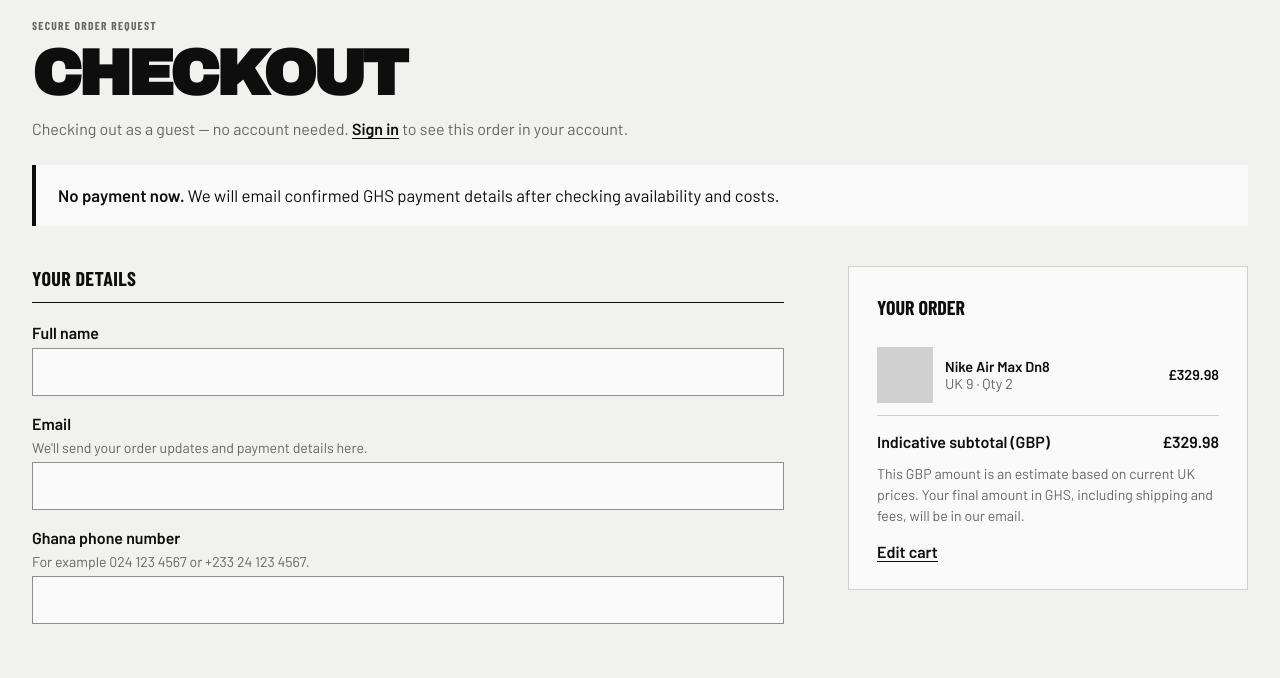
Test case: successful order sends only ids/sizes/quantities, clears the cart and shows a received-only confirmation
Type "Ama Mensah" into the field labelled "Full name". click: (408, 372)
box: [32,348,784,396]
Type "ama@example.test" into the field labelled "Email". click: (408, 486)
box: [32,462,784,510]
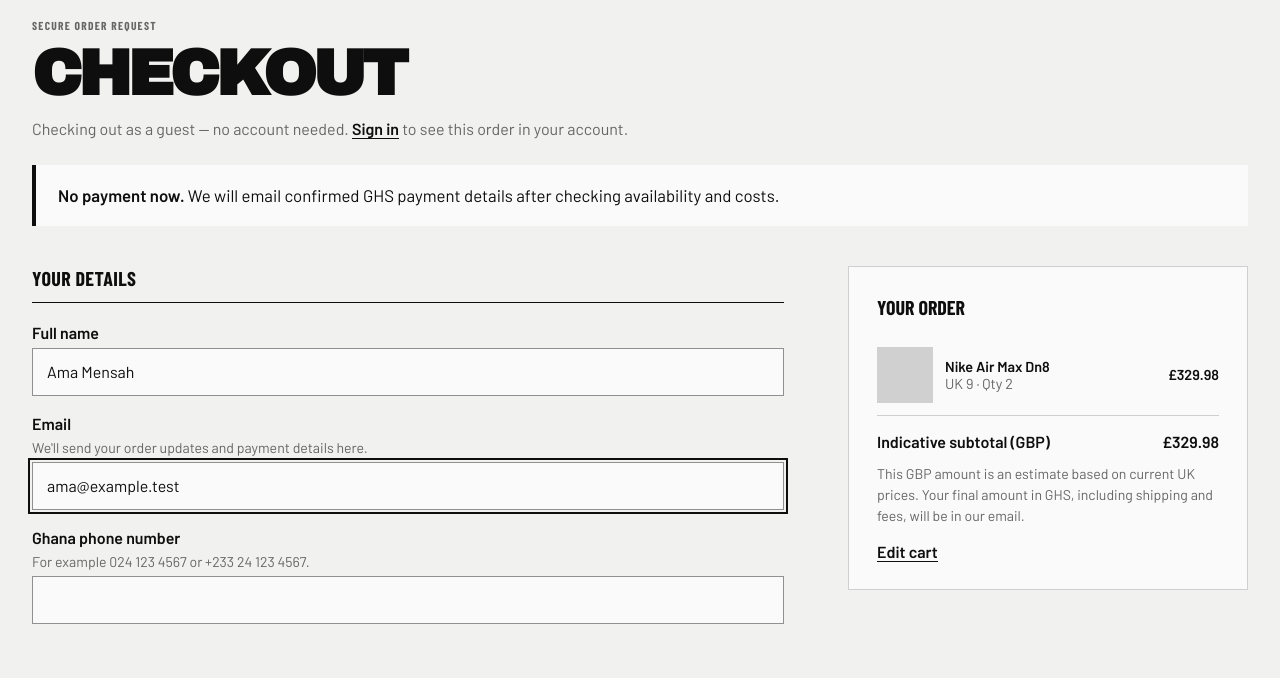
Type "024 123 4567" into the field labelled "Ghana phone number". click: (408, 600)
box: [32,576,784,624]
(page scrolled)
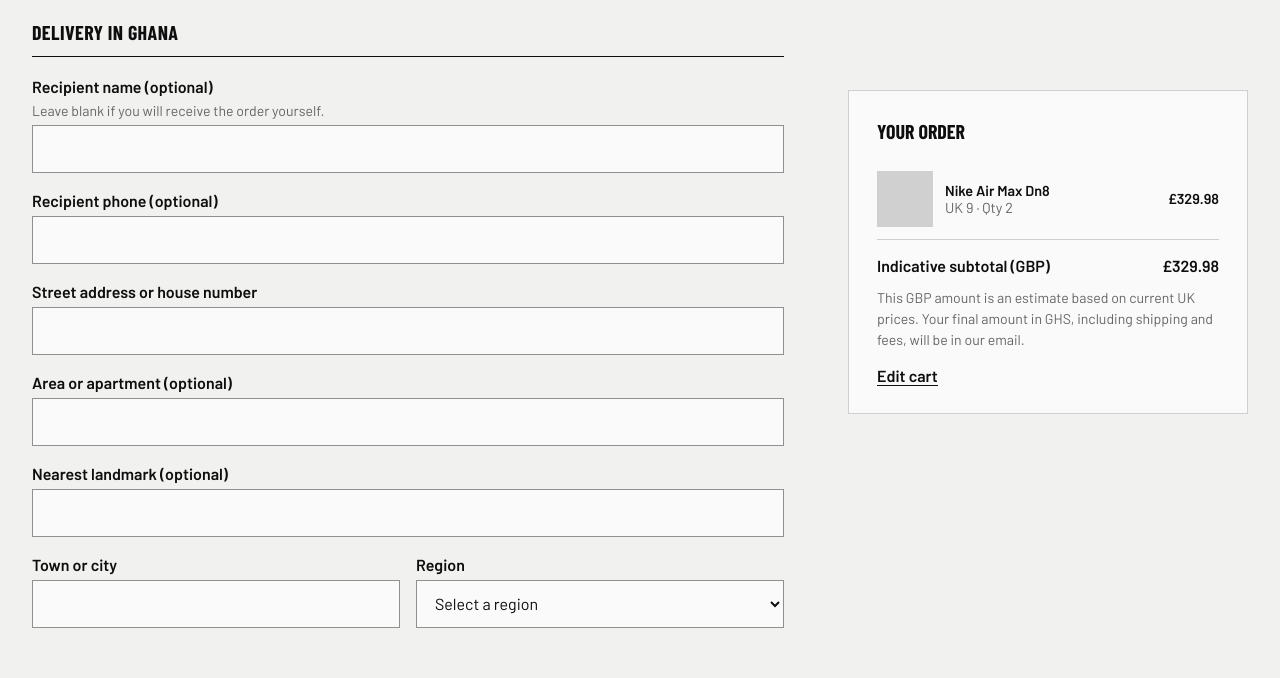
Type "12 Ring Road East" into the field labelled "Street address or house number". click: (408, 331)
box: [32,307,784,355]
Type "Accra" into the field labelled "Town or city". click: (216, 604)
box: [32,580,400,628]
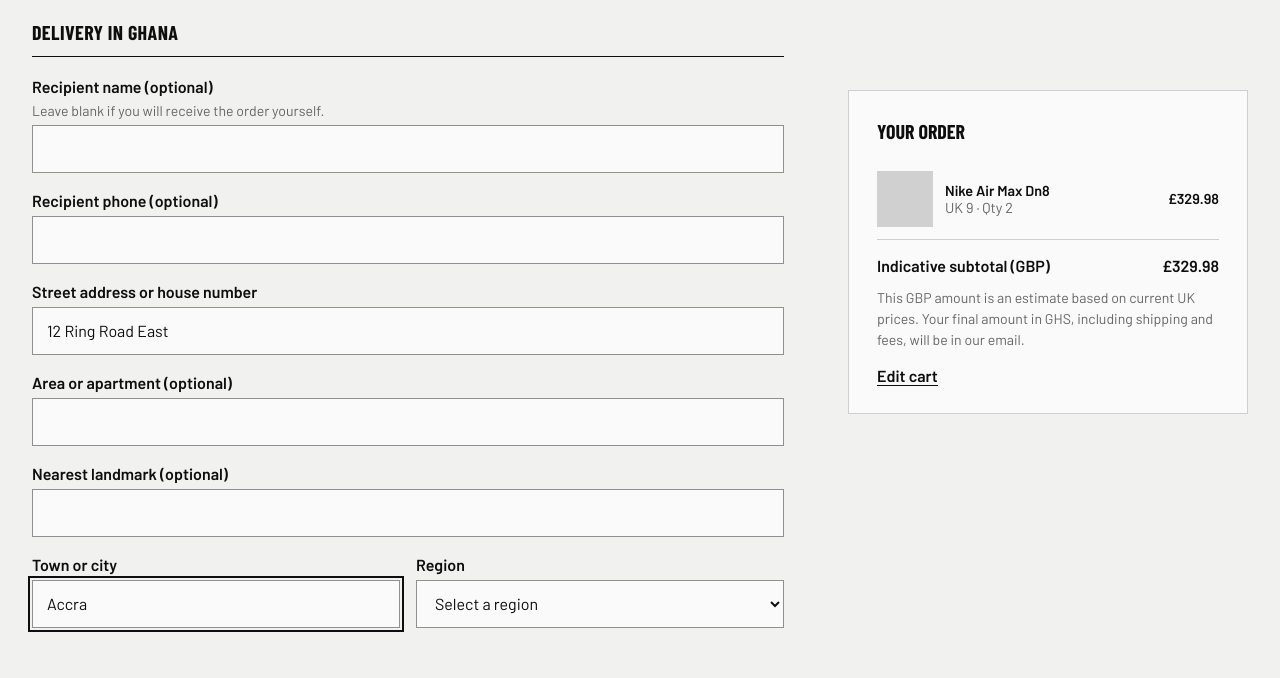
Select "Greater Accra" in the dropdown labelled "Region". click: (600, 604)
box: [416,580,784,628]
(page scrolled)
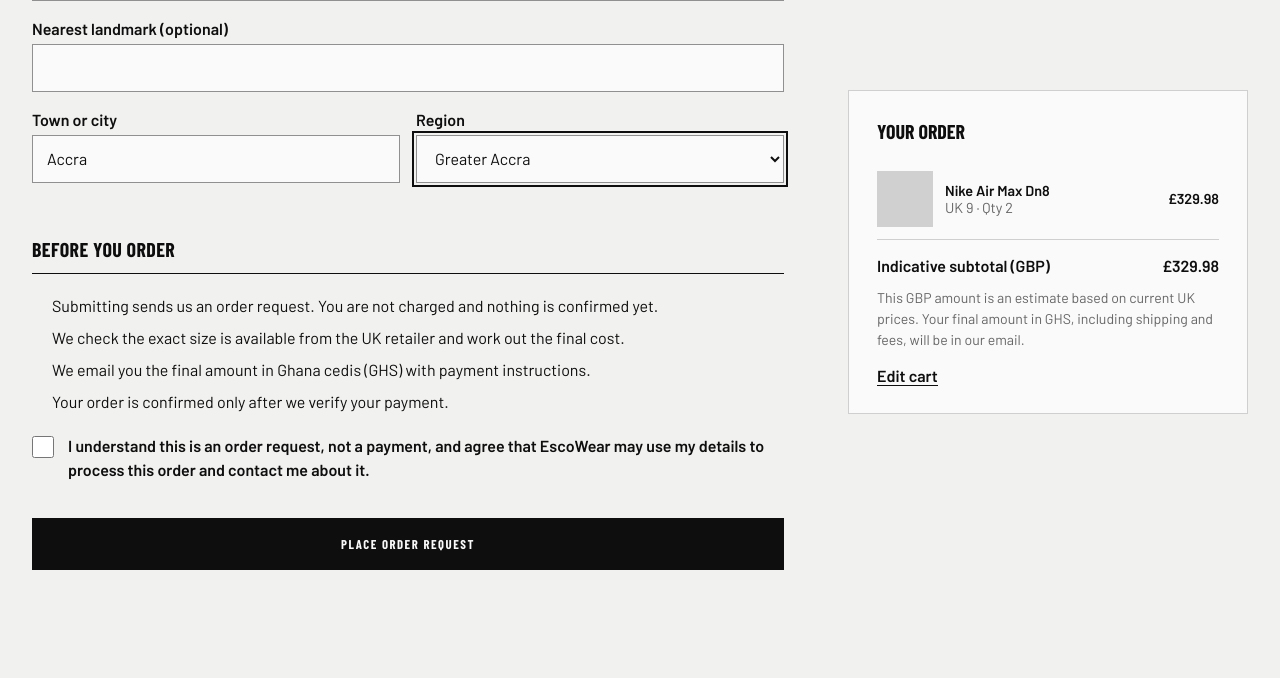
Click the checkbox labelled "I understand this is an order request". click: click(43, 447)
box: [32,436,54,458]
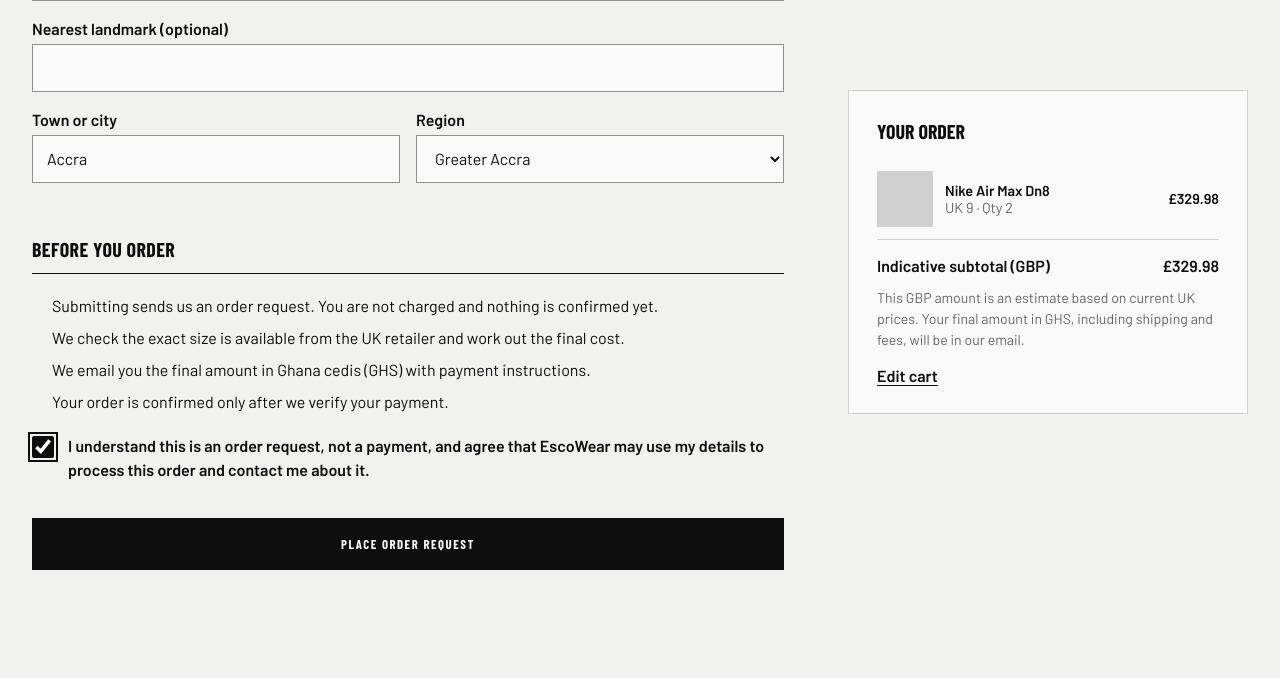
Click the button "Place order request". click: click(408, 544)
box: [32,518,784,570]
(page scrolled)
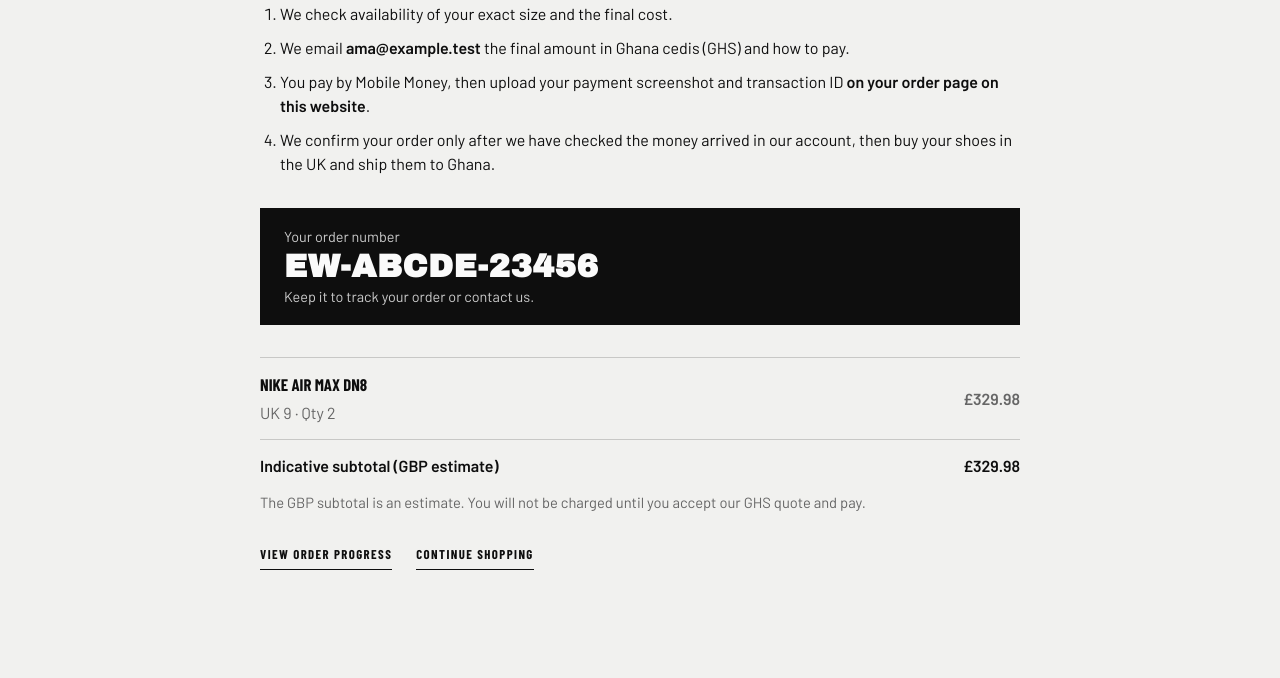
Check: the text "EW-ABCDE-23456" is shown, box [284,249,598,284]
Check: the list item "upload your payment screenshot and transaction ID" is shown, box [280,72,846,91]
